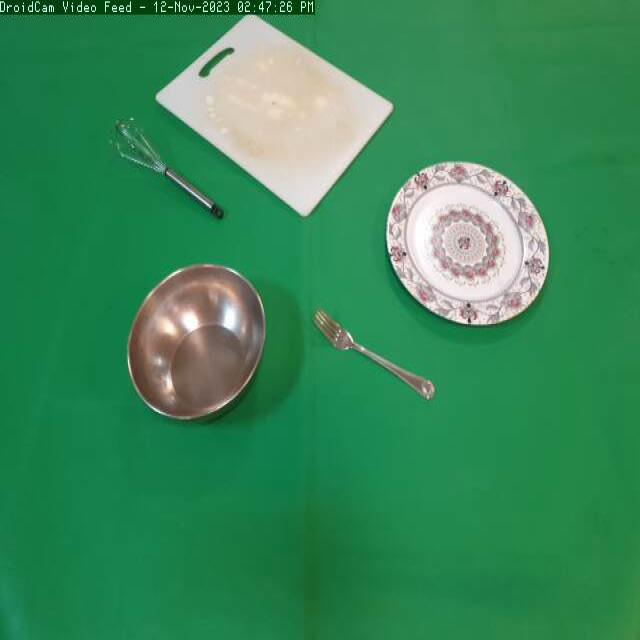bowl: (123, 261, 277, 432)
cutting board: (156, 7, 408, 226)
fork: (309, 293, 444, 407)
plate: (381, 152, 554, 335)
whisk: (106, 108, 232, 225)
